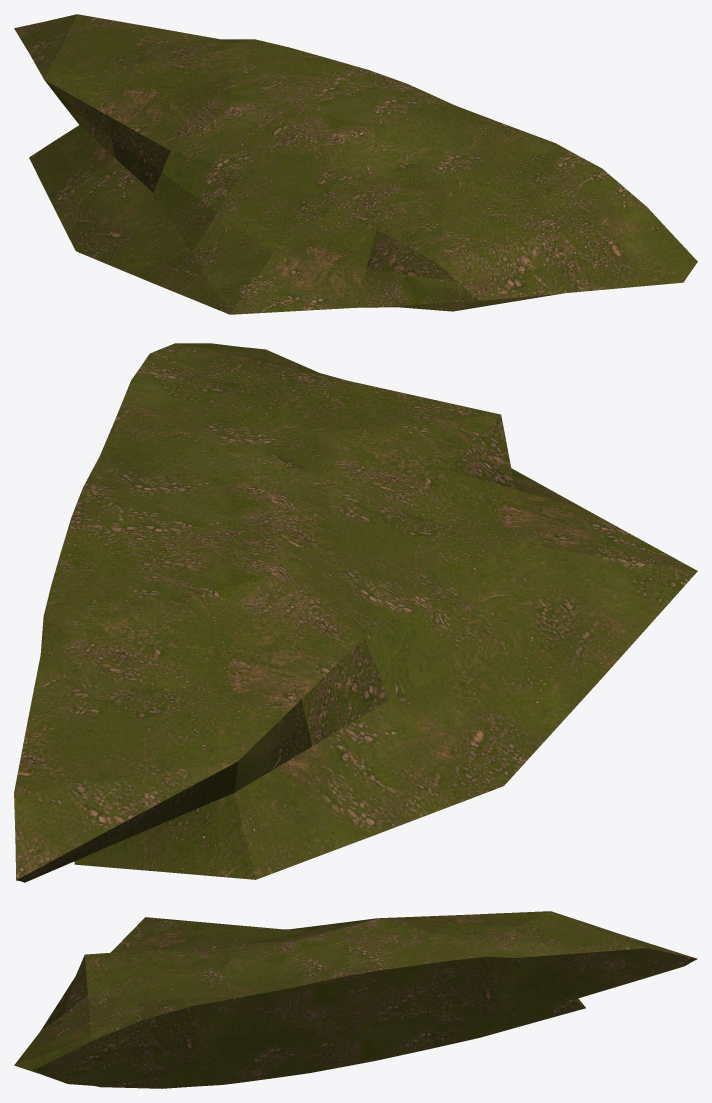
The model's file is slab_2.glb.
3 renders of one model, top to bottom at view 1: azimuth 30°, elevation 25°; view 2: azimuth 150°, elevation 25°; view 3: azimuth 270°, elevation 25°, orthographic. The views are drawn at different scales.
Parts seen in each view (by area): view 1: slab; view 2: slab; view 3: slab.
Boxes of the visible parts, x1=… form: slab: x1=14, y1=14, x2=697, y2=314; slab: x1=14, y1=343, x2=697, y2=882; slab: x1=14, y1=911, x2=697, y2=1088.
Size of the model in its own units: 1.81 by 0.5848 by 3.21.
Materials: 1 (1 with a texture image).
